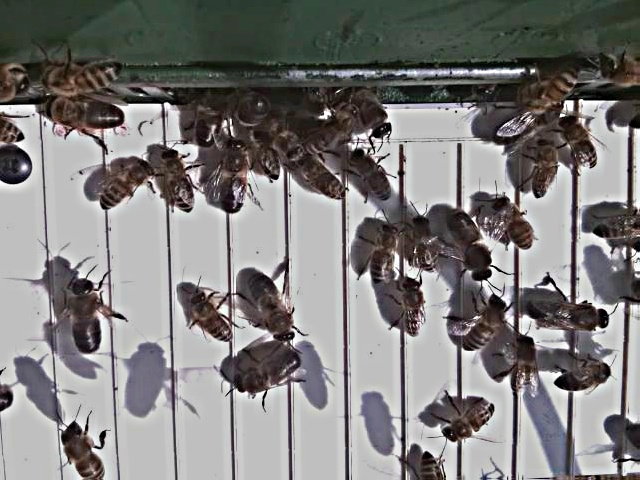Drone: (525, 291, 614, 337), (445, 208, 495, 287), (246, 272, 298, 347), (234, 347, 304, 397), (68, 276, 105, 360), (44, 100, 128, 135), (218, 135, 252, 217)
Worker: (101, 160, 157, 214), (350, 144, 398, 207), (58, 424, 111, 480), (464, 291, 509, 352), (162, 145, 199, 219), (560, 114, 602, 179), (190, 287, 235, 346), (493, 195, 536, 255), (444, 400, 501, 444), (550, 359, 617, 396), (305, 156, 351, 208), (506, 337, 545, 397), (409, 211, 441, 279), (530, 135, 562, 203), (367, 219, 399, 284), (398, 277, 427, 343), (588, 215, 640, 245)
